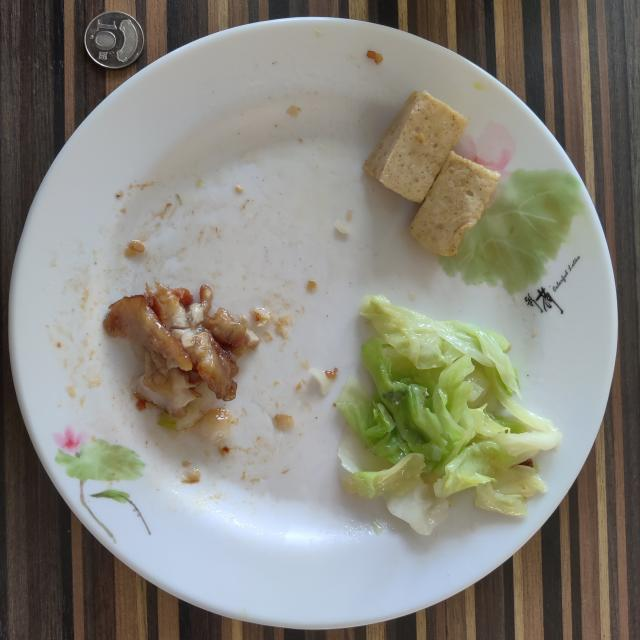Kabayaki sea bream fillet: (104, 284, 259, 418)
cabbage: (336, 296, 562, 535)
coin: (84, 11, 144, 69)
creamy tofu -without sauce-: (364, 91, 500, 256)
